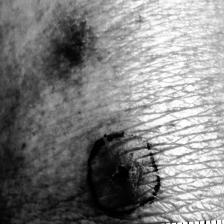Non-Cancerous Skin Condition: (105, 150, 146, 194)
